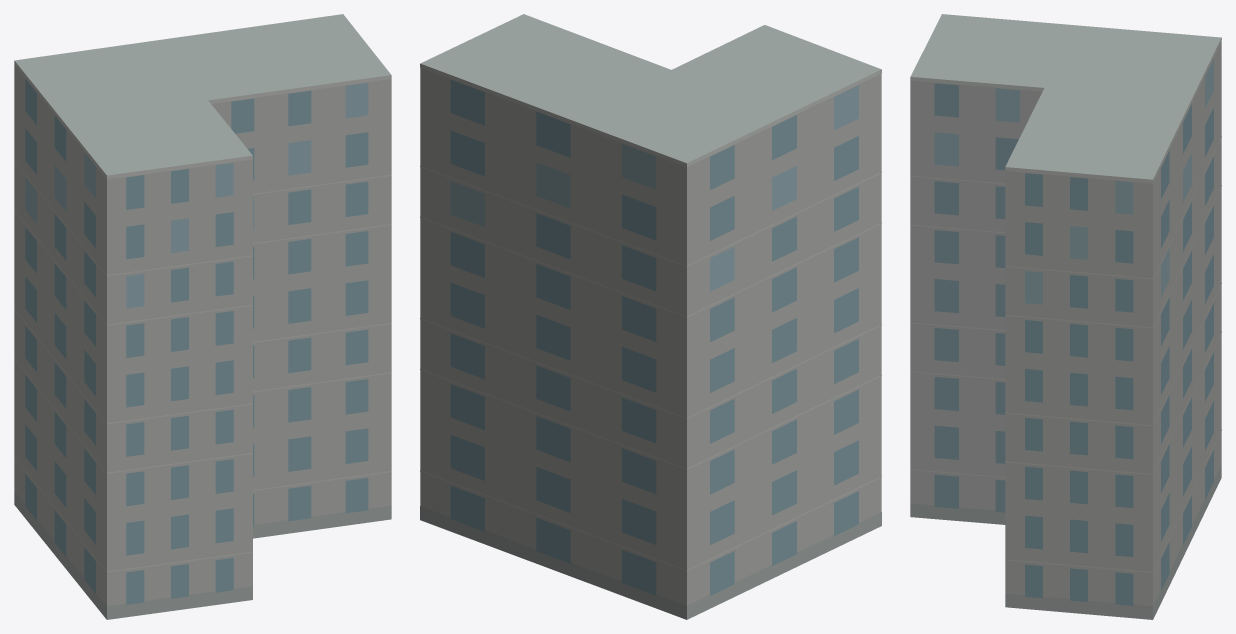
Rendered from survey-upis-32654514.glb.
3 renders of one model, left to right at view 1: azimuth 30°, elevation 25°; view 2: azimuth 150°, elevation 25°; view 3: azimuth 270°, elevation 25°, orthographic. The views are drawn at different scales.
Visible parts, largest first — view 1: survey-upis-32654514.tmp; view 2: survey-upis-32654514.tmp; view 3: survey-upis-32654514.tmp.
Part boxes in pixels (left/top/right/bottom): survey-upis-32654514.tmp: left=14, top=14, right=391, bottom=619; survey-upis-32654514.tmp: left=420, top=14, right=881, bottom=619; survey-upis-32654514.tmp: left=910, top=14, right=1221, bottom=619.
Bounding box in the file's own units: 22.14 × 27.4 × 17.58.
